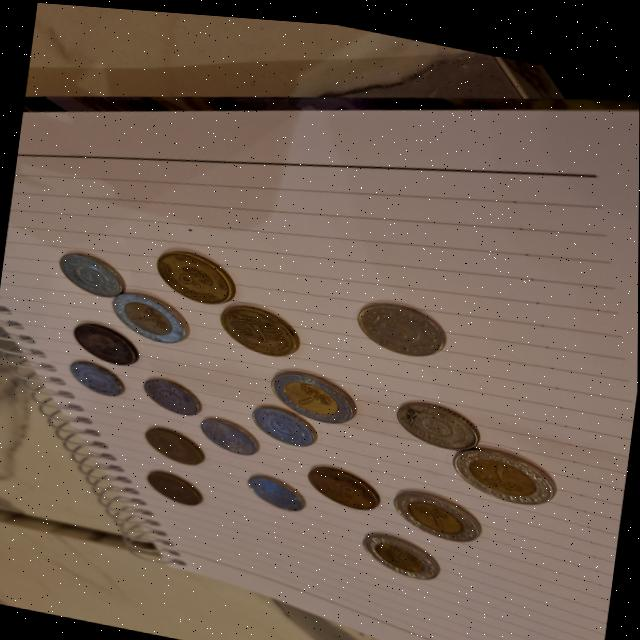Half Pound: (153, 242, 235, 306), (214, 299, 304, 356), (303, 453, 386, 511), (59, 317, 148, 369), (136, 419, 208, 468), (143, 465, 209, 506)
One Pound: (449, 436, 567, 506), (265, 362, 364, 426), (392, 481, 485, 540), (353, 521, 447, 577), (111, 287, 192, 345)
quarter pound: (349, 288, 455, 362), (390, 391, 485, 451), (250, 397, 323, 449), (60, 250, 125, 300), (198, 411, 261, 458), (244, 467, 308, 512), (143, 372, 202, 417), (66, 359, 129, 400)
